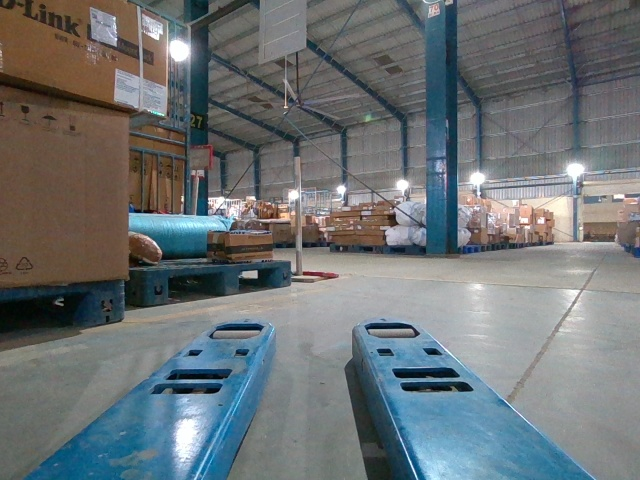block: (87, 278, 126, 326), (143, 269, 169, 305), (216, 263, 241, 296), (275, 262, 292, 286)
front: (147, 260, 292, 301)
hole pallet: (168, 273, 224, 300), (233, 264, 280, 290)
